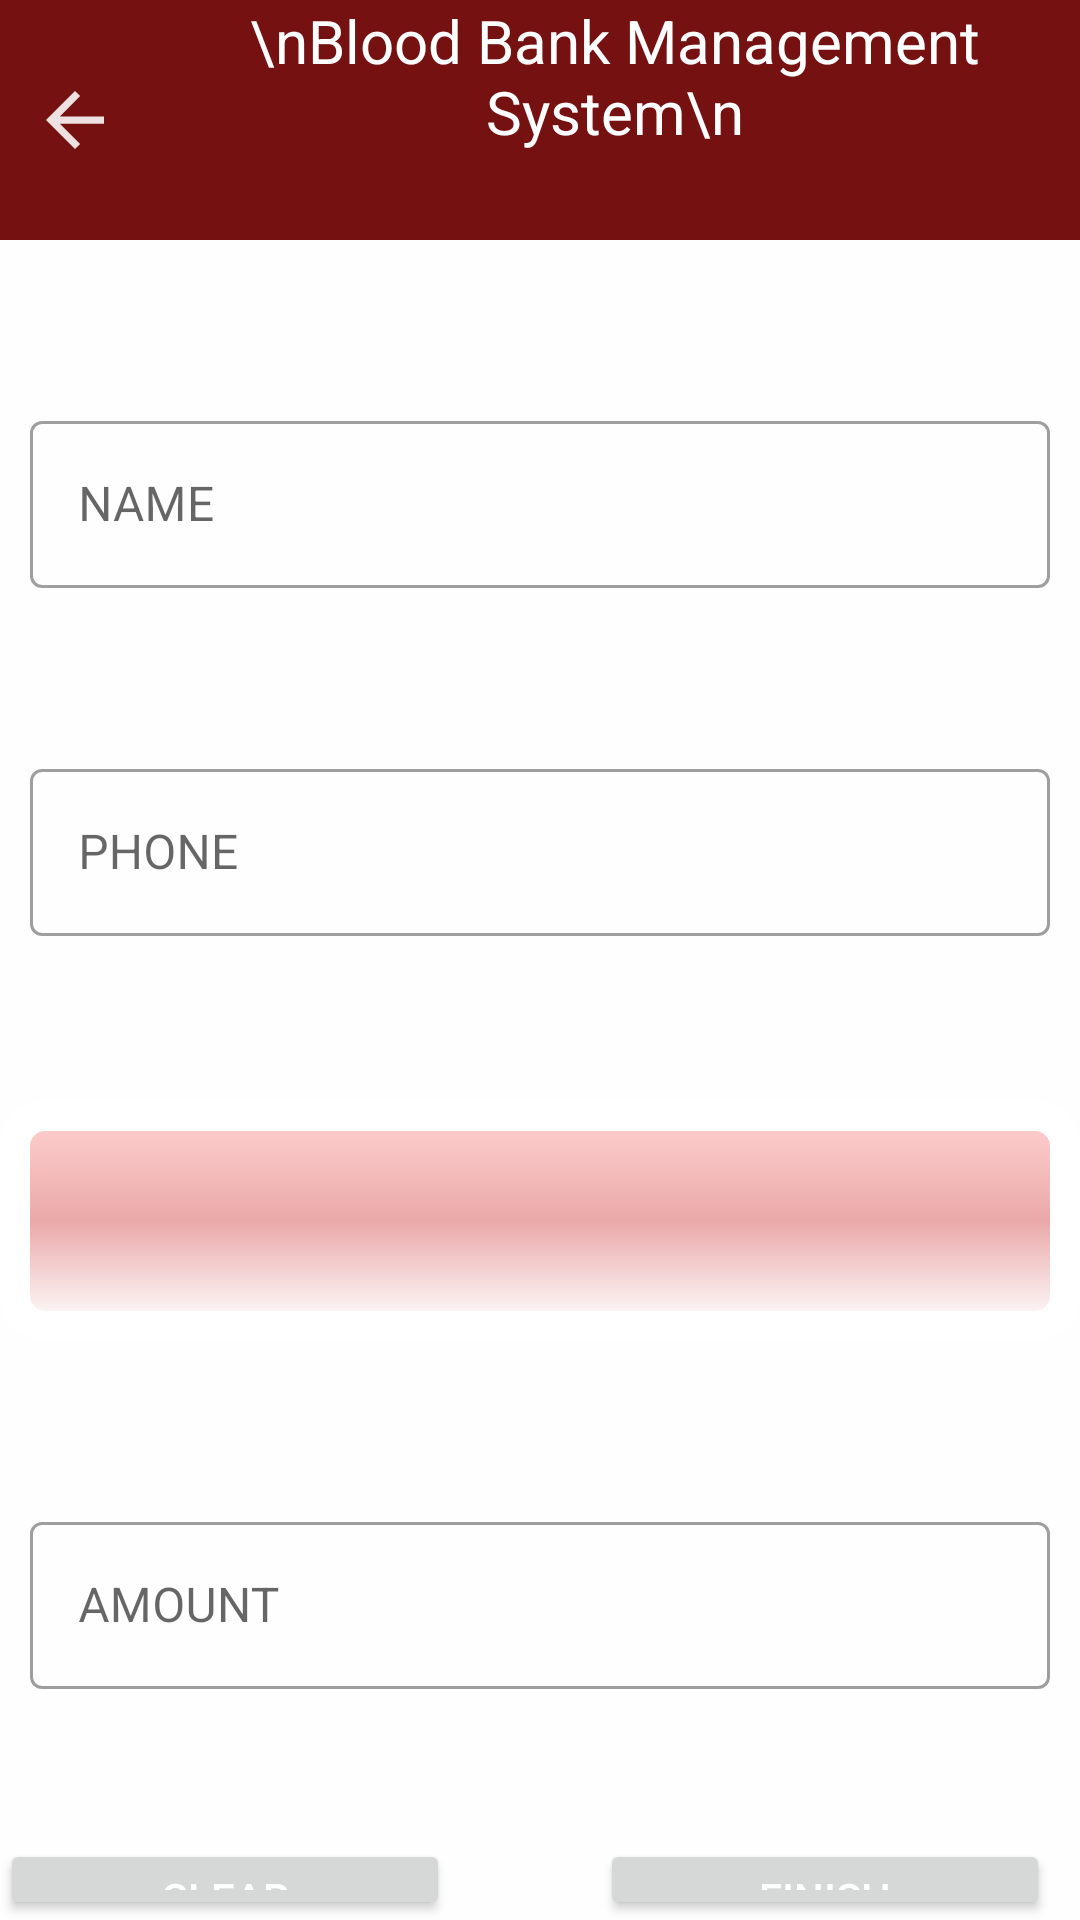

Icons on this 1080px x 1920px Android screen, each with the point to tap as (x,y):
backbutton: (75,120)
